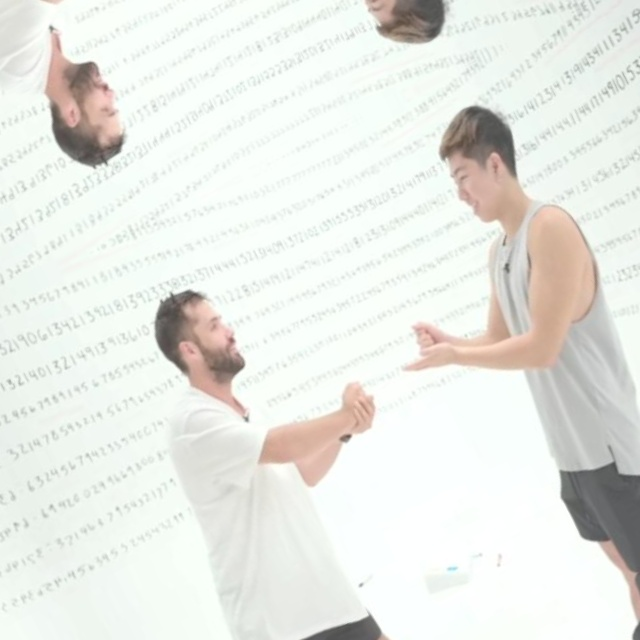Rock: (332, 377, 379, 432), (409, 314, 445, 352)
